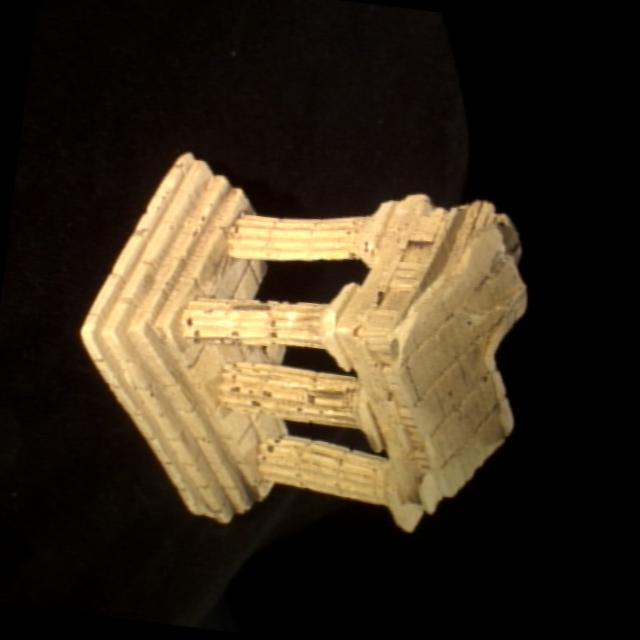Instance-Segmentation: (81, 154, 526, 531)
